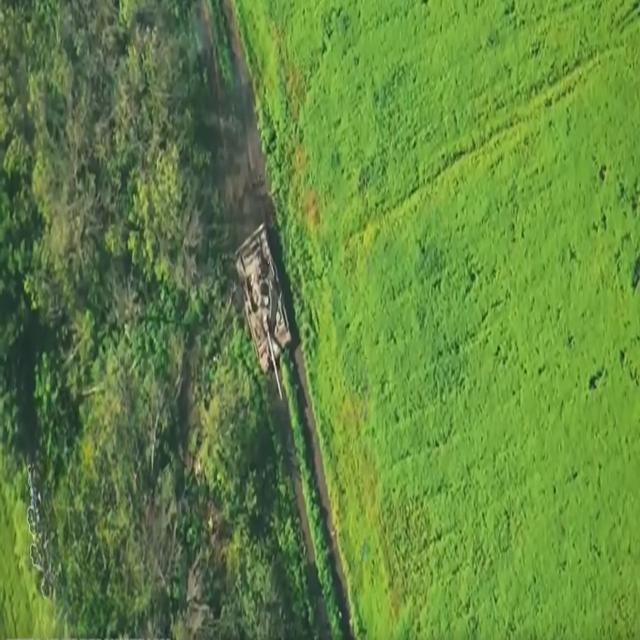MBT: (232, 221, 294, 405)
